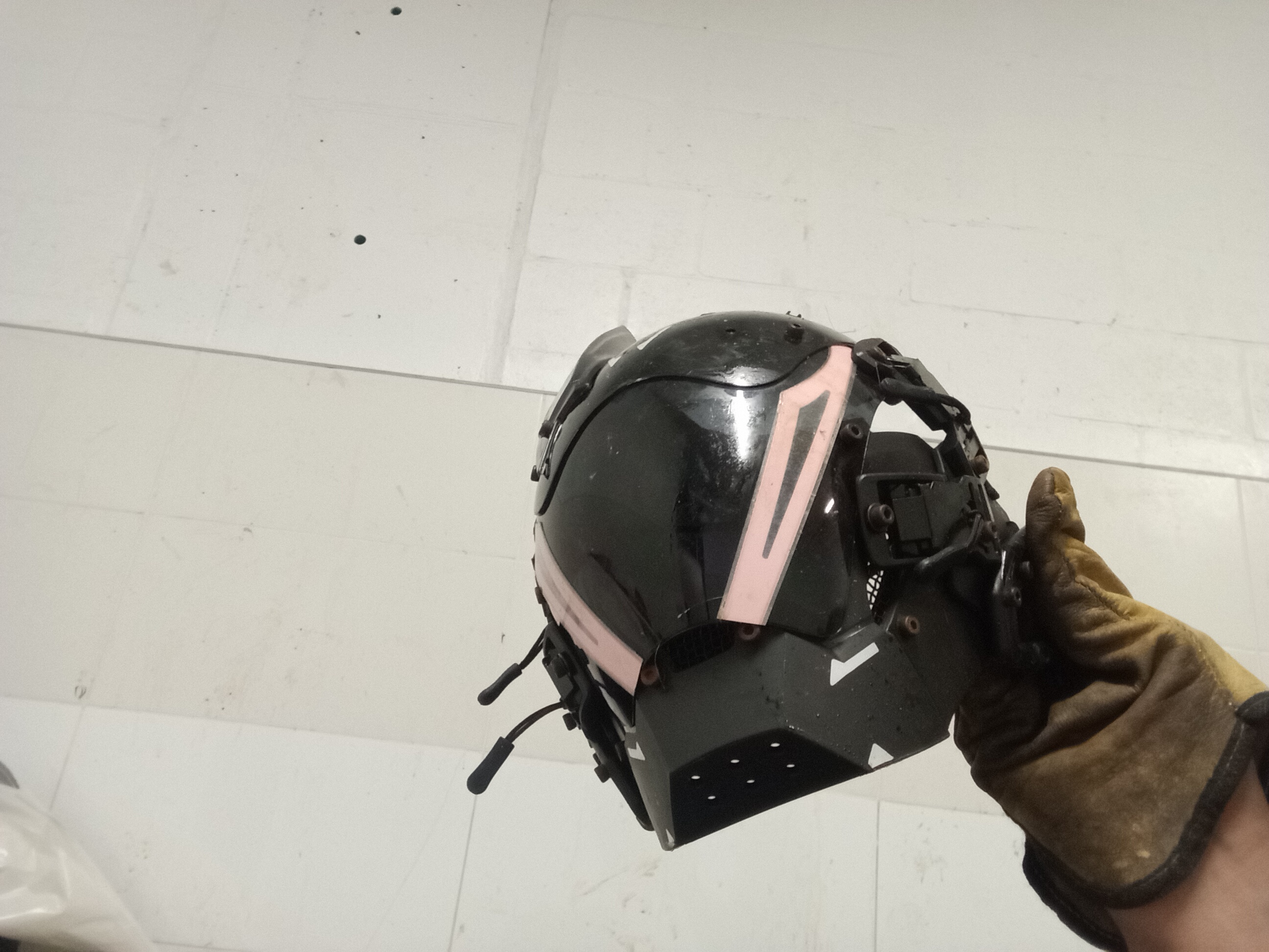Ordinario: (466, 308, 1013, 855)
